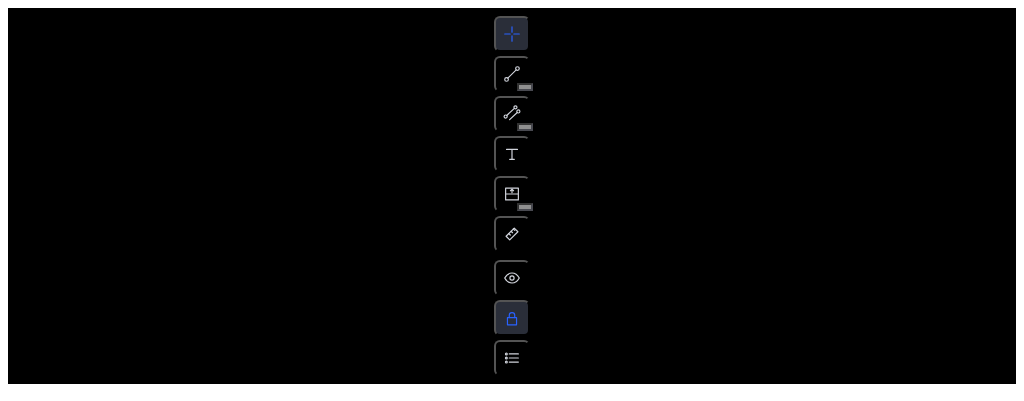
Scenario: Should hide every drawing, lock them and open their list from the bottom of the bar
What coordinates should you click on to do the following:
click the button named "Hide all drawings"
I would click on:
 (512, 278)
Its box is [494, 260, 530, 296].
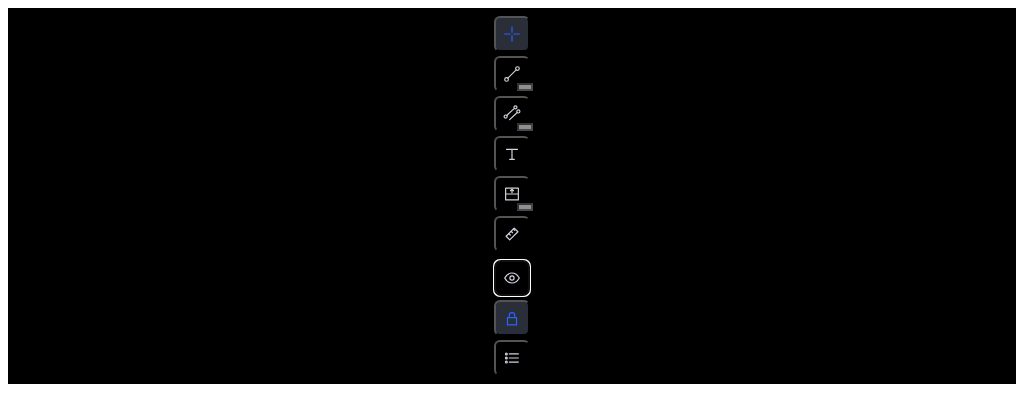
What coordinates should you click on to do the following:
click the button named "Lock drawings"
I would click on:
 (512, 318)
Its box is [494, 300, 530, 336].
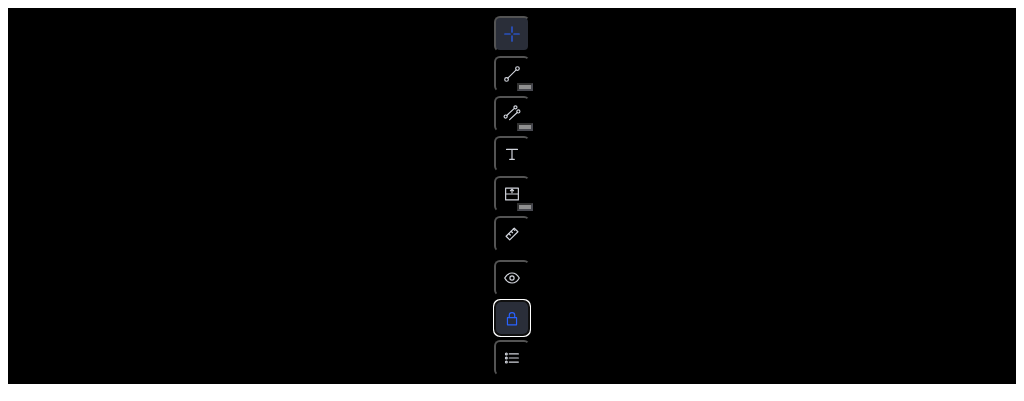
Check: the text "Lista" is not shown
What coordinates should you click on to do the following:
click the button named "Drawings list"
I would click on:
 (512, 358)
Its box is [494, 340, 530, 376].
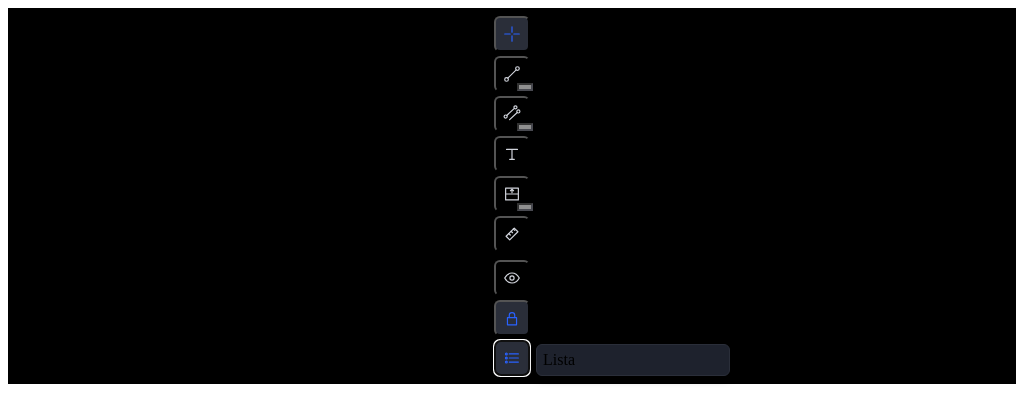
Check: the text "Lista" is shown, box [543, 351, 575, 368]
